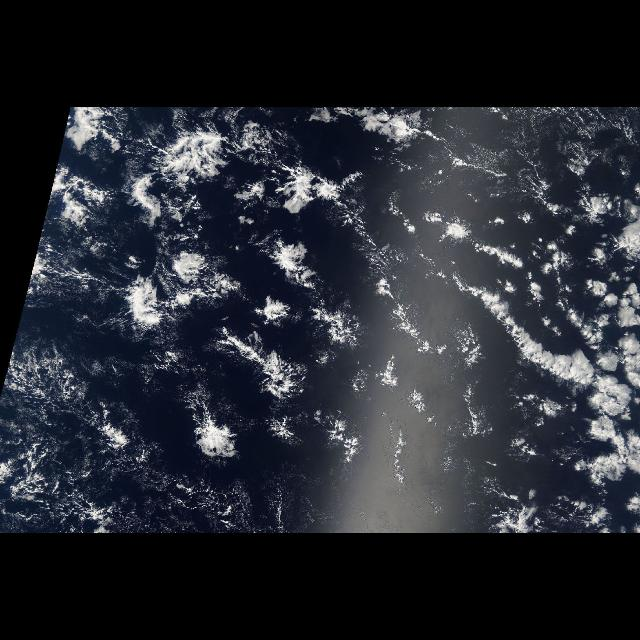Flower: (110, 127, 344, 453)
Gravel: (75, 454, 243, 530)
Sugar: (183, 155, 497, 482)
